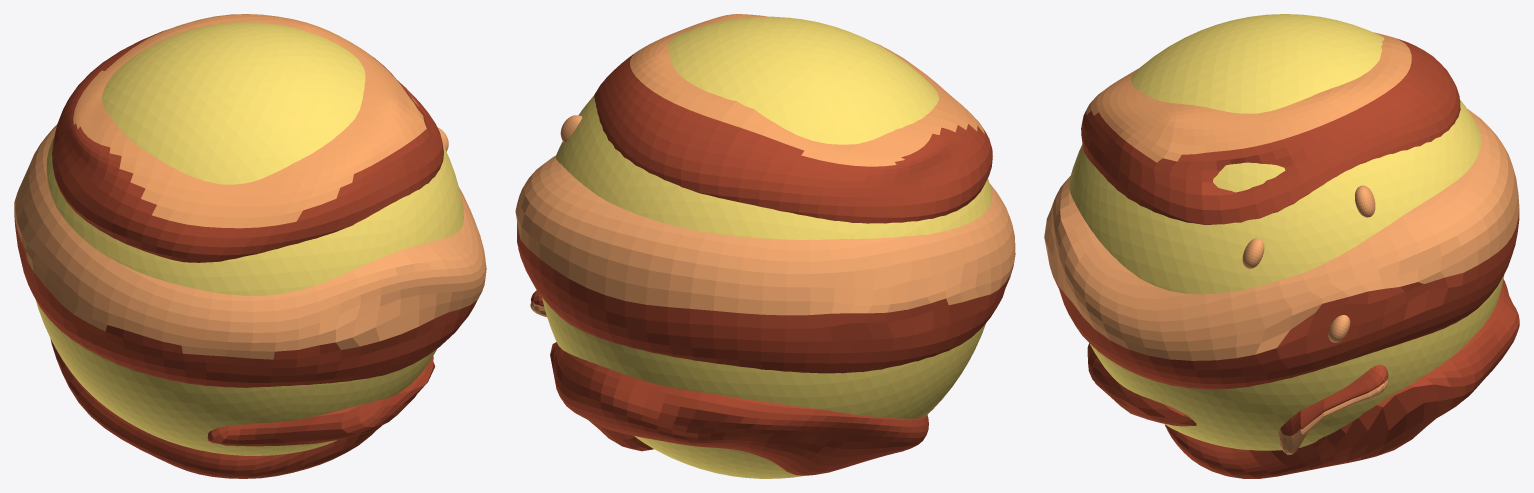
Rendered from venus.glb.
The picture shows the model from 3 angles, left to right: view 1: azimuth 30°, elevation 25°; view 2: azimuth 150°, elevation 25°; view 3: azimuth 270°, elevation 25°; orthographic projection. The views are drawn at different scales.
Parts seen in each view (by area): view 1: Icosphere, Cube, Cube.003, Cube.001, Cube.004; view 2: Cube, Icosphere, Cube.003, Cube.001; view 3: Icosphere, Cube, Cube.003, Cube.001, Cube.004, Cube.002, Cube.008, Cube.005, Cube.006.
Boxes of the visible parts, x1,y1,x2,y2 form: Icosphere: [36, 22, 463, 455]; Cube: [14, 125, 486, 387]; Cube.003: [52, 14, 443, 262]; Cube.001: [50, 338, 382, 478]; Cube.004: [207, 356, 435, 446]; Cube: [515, 156, 1015, 373]; Icosphere: [542, 16, 992, 478]; Cube.003: [594, 14, 992, 223]; Cube.001: [550, 342, 928, 475]; Icosphere: [1068, 14, 1504, 450]; Cube: [1044, 109, 1519, 389]; Cube.003: [1081, 32, 1460, 224]; Cube.001: [1164, 279, 1519, 478]; Cube.004: [1087, 343, 1196, 426]; Cube.002: [1280, 364, 1388, 435]; Cube.008: [1278, 378, 1388, 454]; Cube.005: [1355, 185, 1375, 217]; Cube.006: [1242, 238, 1264, 268].
Bounding box in the file's own units: 2.13 × 2 × 2.13.
